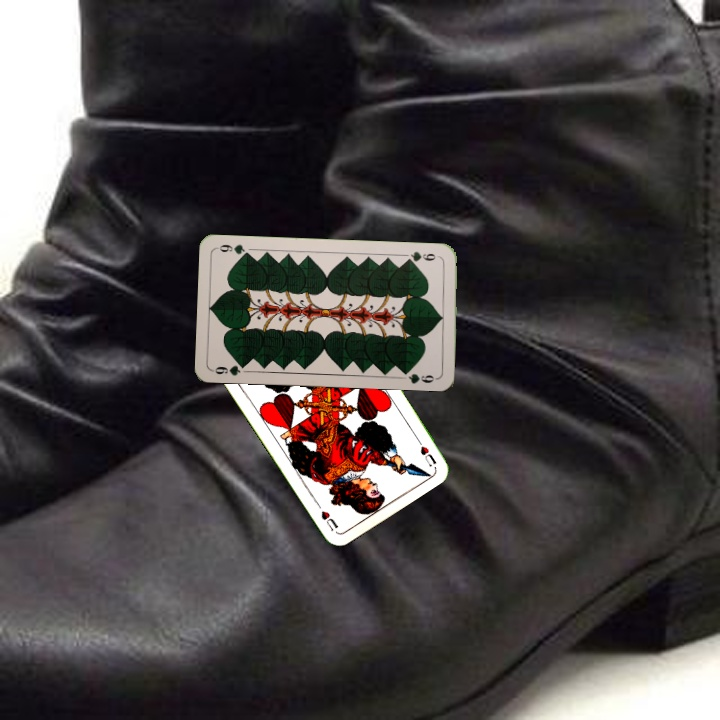G9: (209, 359, 250, 378), (402, 248, 443, 265)
HU: (411, 432, 439, 469)
